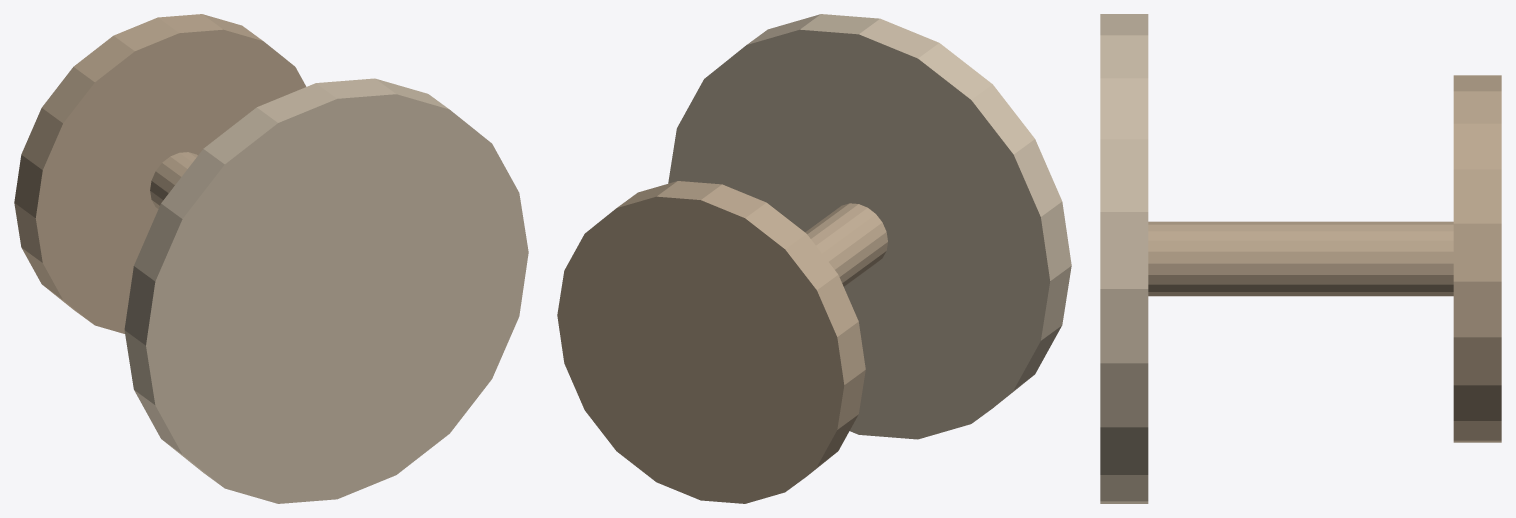
File: side_table.glb
3 renders of one model, left to right at view 1: azimuth 30°, elevation 25°; view 2: azimuth 150°, elevation 25°; view 3: azimuth 270°, elevation 25°, orthographic. The views are drawn at different scales.
Parts seen in each view (by area): view 1: top, foot, stem; view 2: top, foot, stem; view 3: top, stem, foot.
Boxes of the visible parts, <box> form: top: <box>124,78,528,503</box>; foot: <box>14,14,306,333</box>; stem: <box>150,152,197,209</box>; top: <box>668,14,1071,439</box>; foot: <box>557,181,865,503</box>; stem: <box>805,203,887,286</box>; top: <box>1100,14,1148,503</box>; stem: <box>1148,221,1453,296</box>; foot: <box>1453,75,1501,442</box>.
Bounding box in the file's own units: 0.72 × 0.72 × 0.585.
